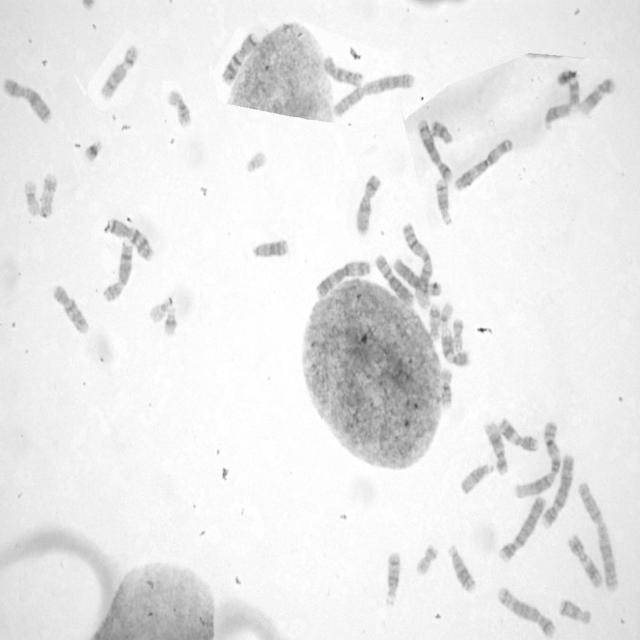A1: (511, 418, 562, 500), (400, 220, 434, 308)
A2: (576, 477, 620, 595), (330, 70, 416, 119)
A3: (452, 134, 514, 192), (314, 256, 371, 300)
B4: (496, 493, 546, 563), (540, 450, 576, 529)
B5: (496, 584, 557, 638), (416, 117, 454, 183)
C10: (51, 281, 90, 336), (320, 53, 364, 87)
C11: (566, 532, 604, 590), (496, 415, 539, 453)
C12: (482, 418, 509, 477), (578, 78, 618, 117)
C6: (372, 251, 415, 305), (392, 256, 442, 297)
C7: (105, 214, 155, 263), (220, 29, 258, 87)
C8: (98, 45, 140, 103), (100, 239, 134, 303)
C9: (439, 326, 471, 369), (554, 66, 581, 110)
D13: (446, 541, 478, 595), (250, 236, 290, 260)
D14: (382, 548, 402, 610), (433, 176, 453, 227)
D15: (458, 459, 496, 496), (541, 100, 572, 131)
E16: (165, 86, 193, 129), (440, 367, 454, 411)
E17: (38, 170, 58, 218), (428, 302, 442, 342)
E18: (557, 596, 593, 626), (428, 116, 454, 145)
F19: (22, 176, 40, 218), (439, 302, 453, 336)
F20: (414, 542, 439, 576), (452, 317, 468, 355)
G21: (82, 137, 104, 163), (162, 303, 178, 336)
G22: (148, 294, 174, 325), (245, 151, 269, 173)
X: (0, 73, 53, 124), (353, 171, 382, 236)
